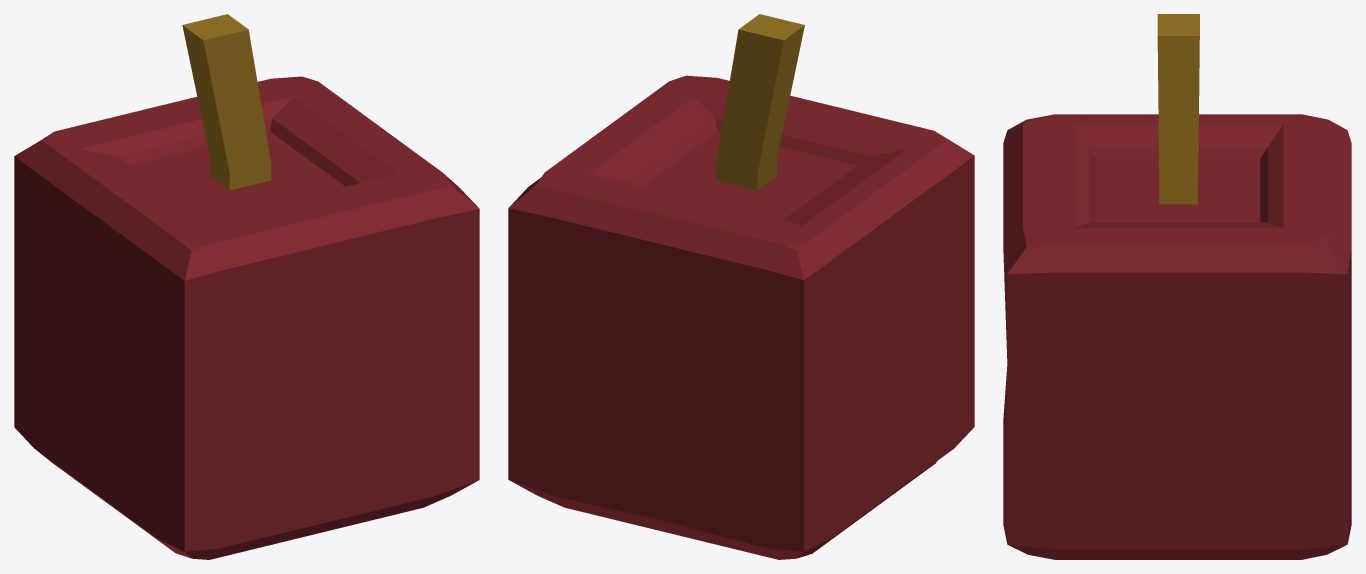
File: Apple_Red.fbx
The picture shows the model from 3 angles, left to right: view 1: azimuth 30°, elevation 25°; view 2: azimuth 150°, elevation 25°; view 3: azimuth 270°, elevation 25°; orthographic projection.
Parts seen in each view (by area): view 1: pCube1; view 2: pCube1; view 3: pCube1.
Part boxes in pixels (x1,y1,x2,y2): pCube1: [14, 14, 479, 559]; pCube1: [508, 14, 974, 559]; pCube1: [1003, 14, 1351, 559].
Bounding box in the file's own units: 1 × 1.44 × 1.
